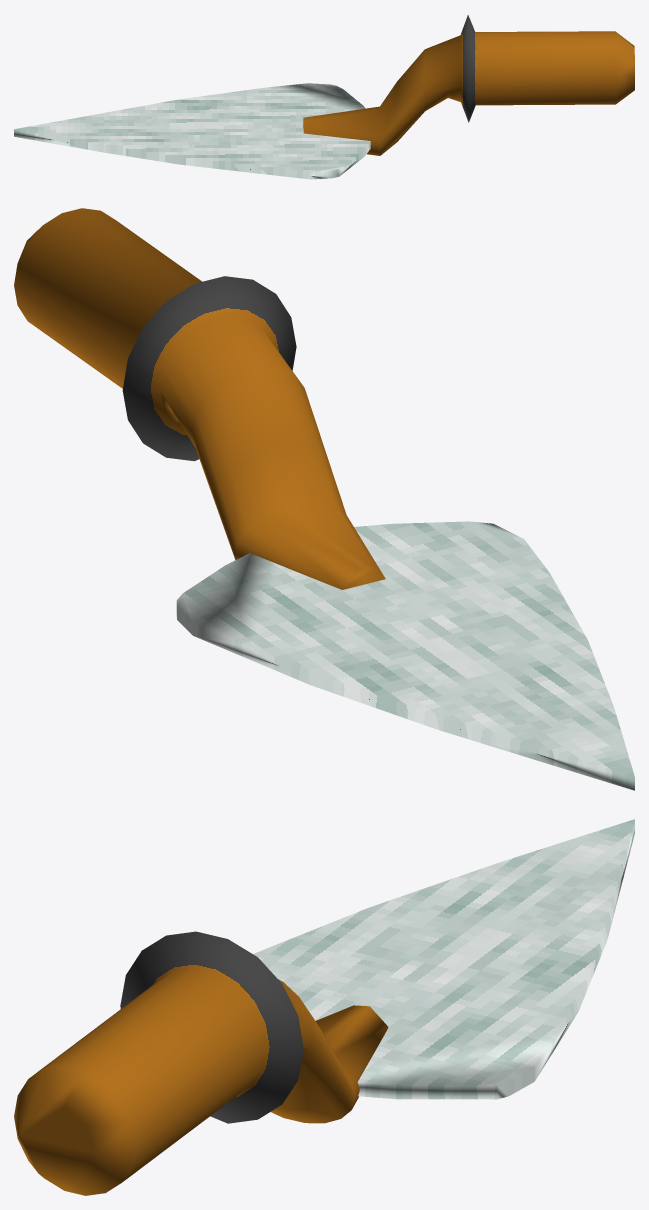
File: trowel.glb
The picture shows the model from 3 angles, top to bottom: view 1: azimuth 30°, elevation 25°; view 2: azimuth 150°, elevation 25°; view 3: azimuth 270°, elevation 25°; orthographic projection. The views are drawn at different scales.
Size of the model in its own units: 7.39 by 1.92 by 4.36.
Materials: 1 (1 with a texture image).
